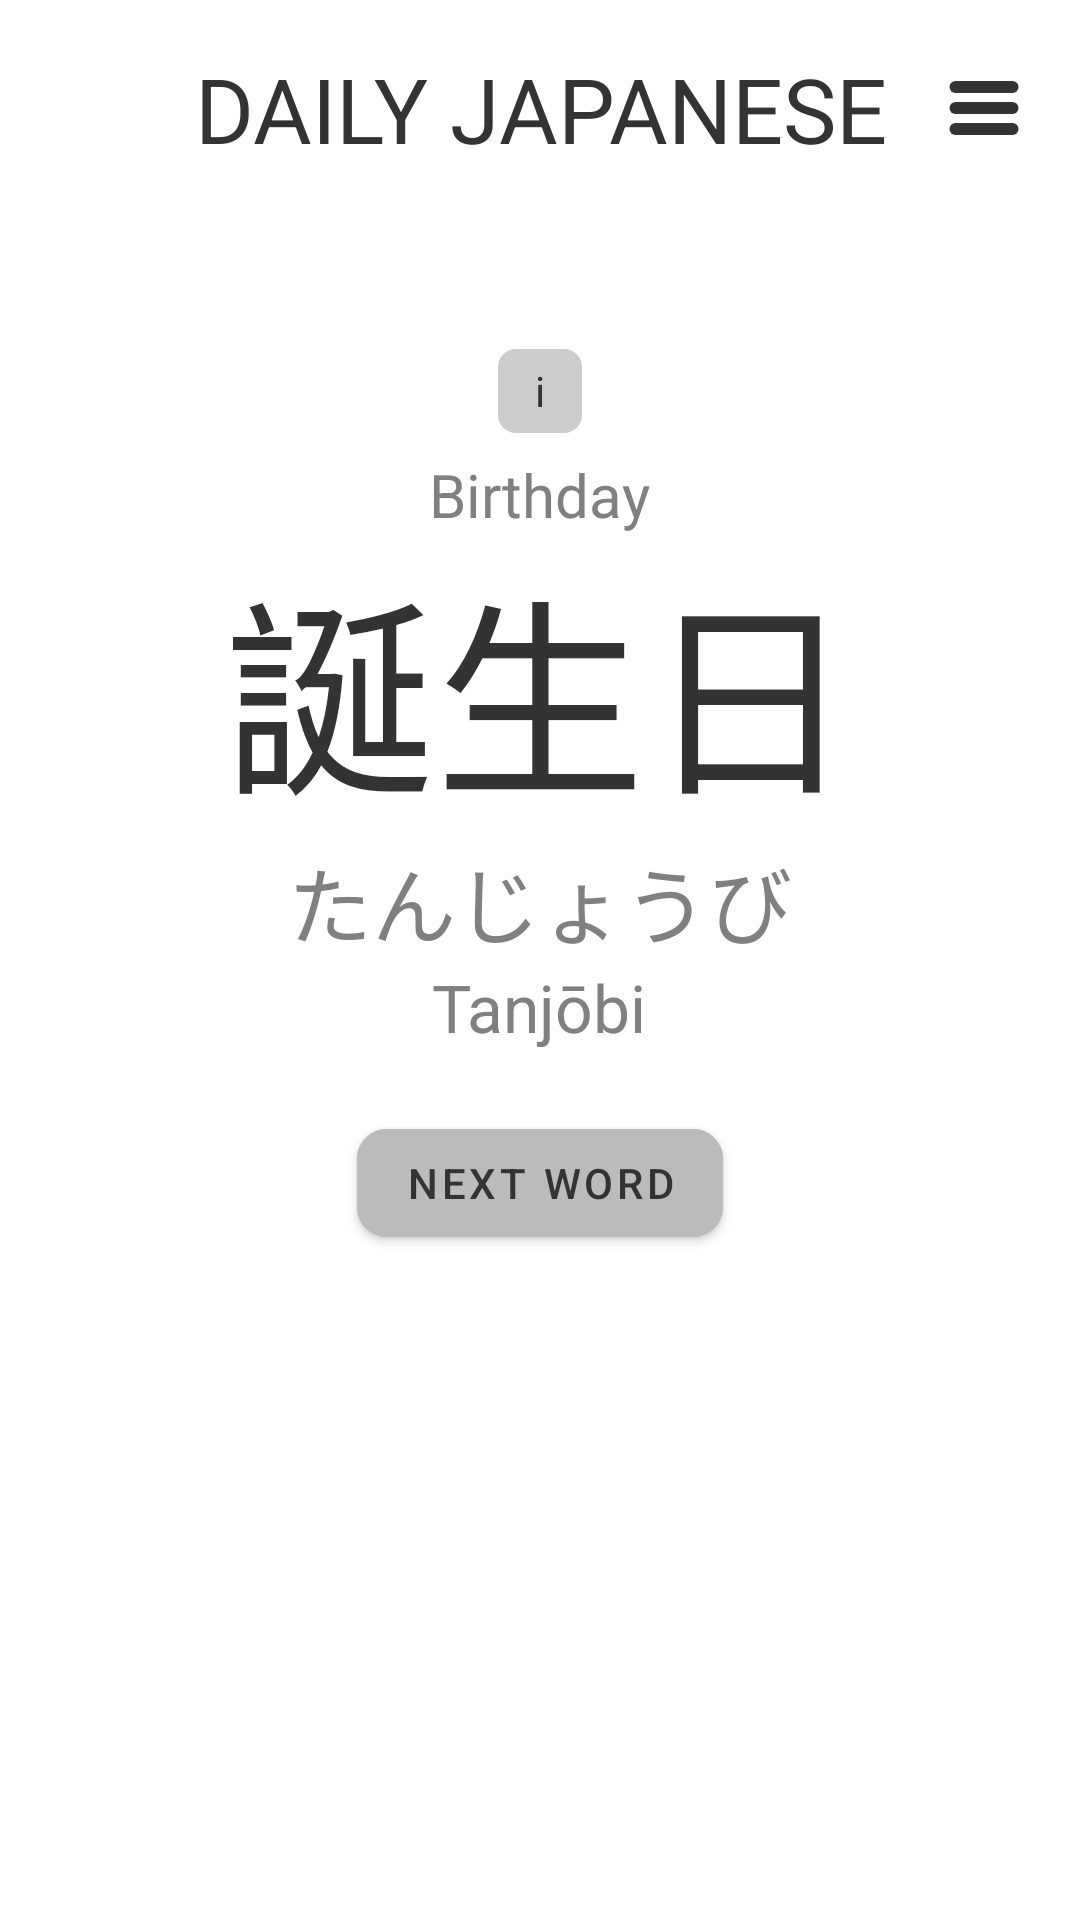

Screen size 1080w x 1920h. Icon name, then its center in pixels as (x,y):
Menu button: (984,108)
